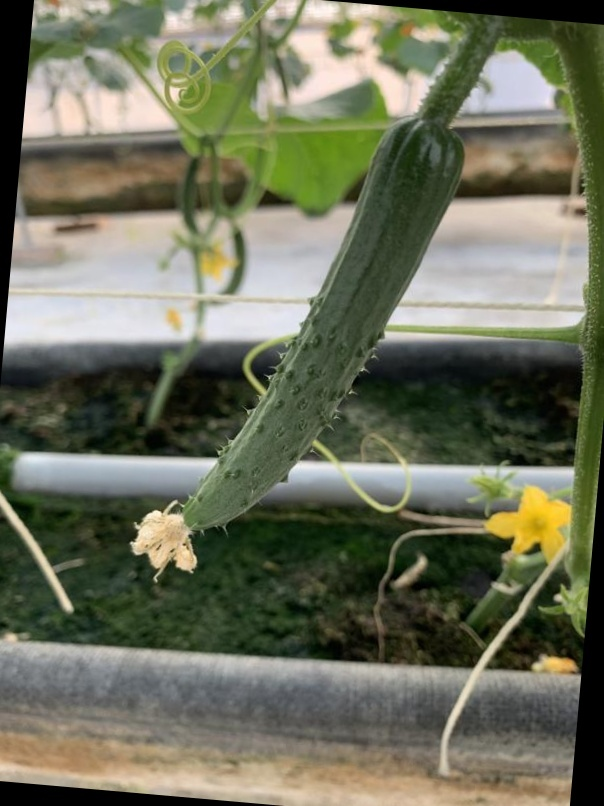growth: (167, 95, 475, 595)
